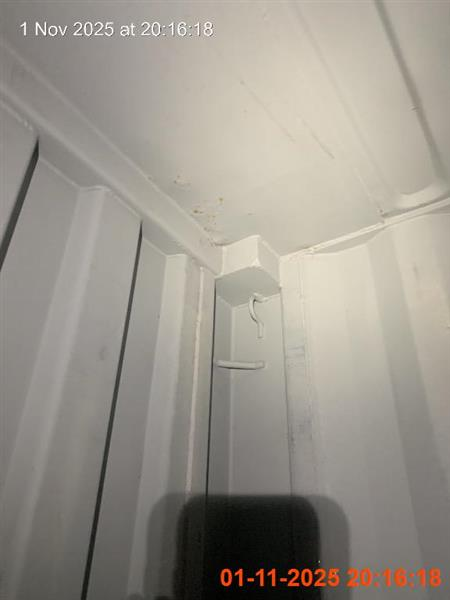broken: (173, 494, 333, 599)
